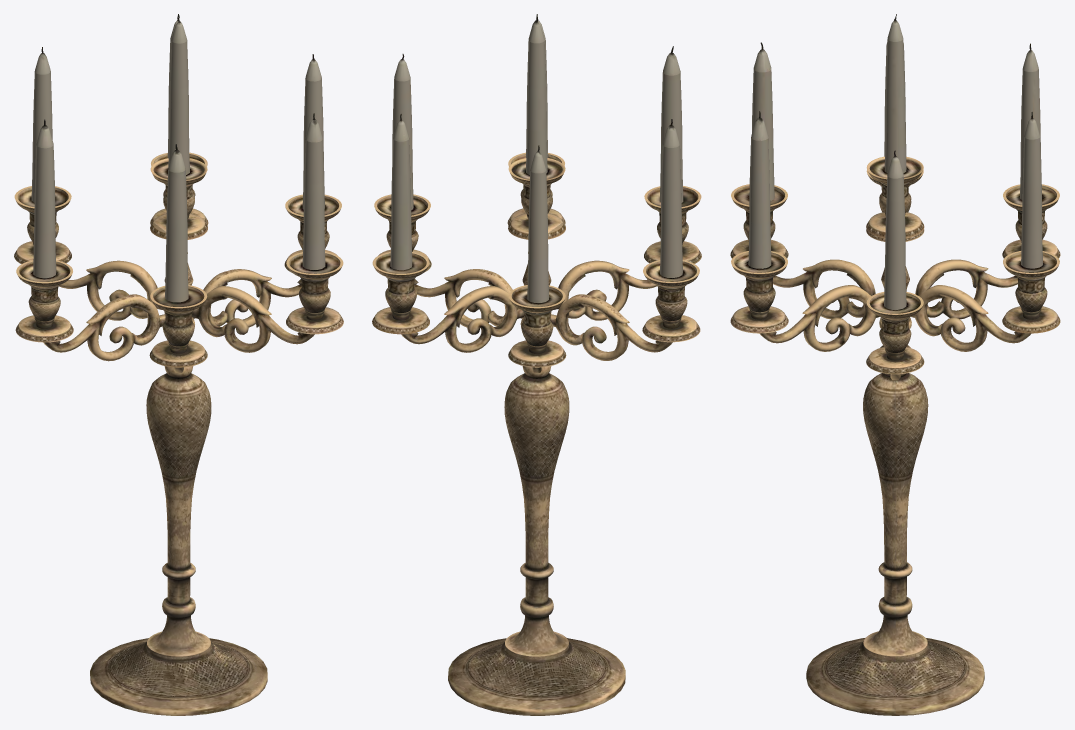
File: candle_15.glb
The picture shows the model from 3 angles, left to right: view 1: azimuth 30°, elevation 25°; view 2: azimuth 150°, elevation 25°; view 3: azimuth 270°, elevation 25°; orthographic projection.
Visible parts, largest first — view 1: candle_15_candle_15_0; view 2: candle_15_candle_15_0; view 3: candle_15_candle_15_0.
Part boxes in pixels (x1,y1,x2,y2): candle_15_candle_15_0: [14, 14, 343, 715]; candle_15_candle_15_0: [372, 14, 701, 715]; candle_15_candle_15_0: [730, 14, 1060, 715].
Size of the model in its own units: 0.4083 by 0.8095 by 0.3647.
1 material, 1 textured.
